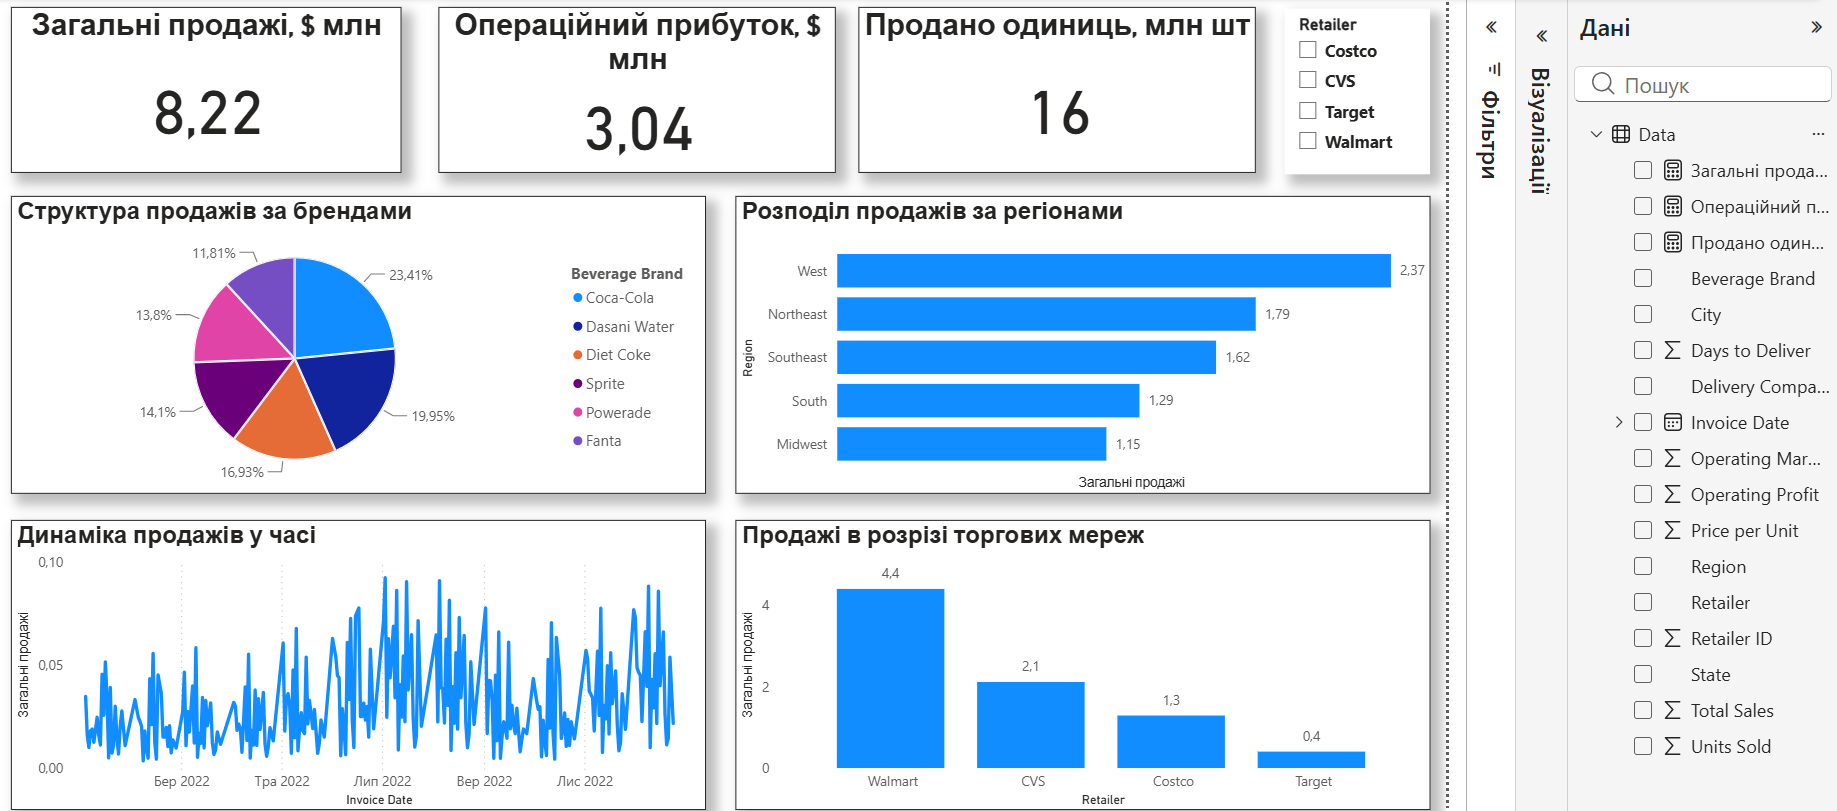

The dashboard page shown, as its layout file describes it:
{"tool":"powerbi","page":{"name":"Сторінка 1","canvas":[1280,720],"ordinal":0},"visuals":[{"type":"cardVisual","title":"Загальні продажі, $ млн","fields":{"Data":["Data.Загальні продажі"]},"box":[10.6,7.6,345.2,146.9],"z":0},{"type":"cardVisual","title":"Операційний прибуток, $ млн","fields":{"Data":["Data.Операційний прибуток"]},"box":[389.2,7.6,351.3,146.9],"z":1000},{"type":"cardVisual","title":"Продано одиниць, млн шт","fields":{"Data":["Data.Продано одиниць"]},"box":[760.1,7.6,351.3,146.9],"z":2000},{"type":"pieChart","title":"Структура продажів за брендами","fields":{"Category":["Data.Beverage Brand"],"Y":["Data.Загальні продажі"]},"box":[10.6,175.6,614.8,263.5],"z":3000},{"type":"barChart","title":"Розподіл продажів за регіонами","fields":{"Category":["Data.Region"],"Y":["Data.Загальні продажі"]},"box":[651.1,175.6,614.8,263.5],"z":4000},{"type":"slicer","fields":{"Values":["Data.Retailer"]},"box":[1137.2,9.1,128.7,146.9],"z":5000},{"type":"lineChart","title":"Динаміка продажів у часі","fields":{"Y":["Data.Загальні продажі"],"Category":["Data.Invoice Date"]},"box":[10.6,461.8,614.8,257.4],"z":6000},{"type":"columnChart","title":"Продажі в розрізі торгових мереж","fields":{"Category":["Data.Retailer"],"Y":["Data.Загальні продажі"]},"box":[651.1,461.8,614.8,257.4],"z":7000}]}

Visuals, with their boxes in screenshot pixels (x1, y1, x2, y2):
"Загальні продажі, $ млн" cardVisual: left=17, top=13, right=401, bottom=177
"Операційний прибуток, $ млн" cardVisual: left=438, top=13, right=830, bottom=177
"Продано одиниць, млн шт" cardVisual: left=851, top=13, right=1243, bottom=177
"Структура продажів за брендами" pieChart: left=17, top=200, right=701, bottom=494
"Розподіл продажів за регіонами" barChart: left=730, top=200, right=1415, bottom=494
slicer - Data.Retailer: left=1272, top=15, right=1415, bottom=179
"Динаміка продажів у часі" lineChart: left=17, top=519, right=701, bottom=806
"Продажі в розрізі торгових мереж" columnChart: left=730, top=519, right=1415, bottom=806
